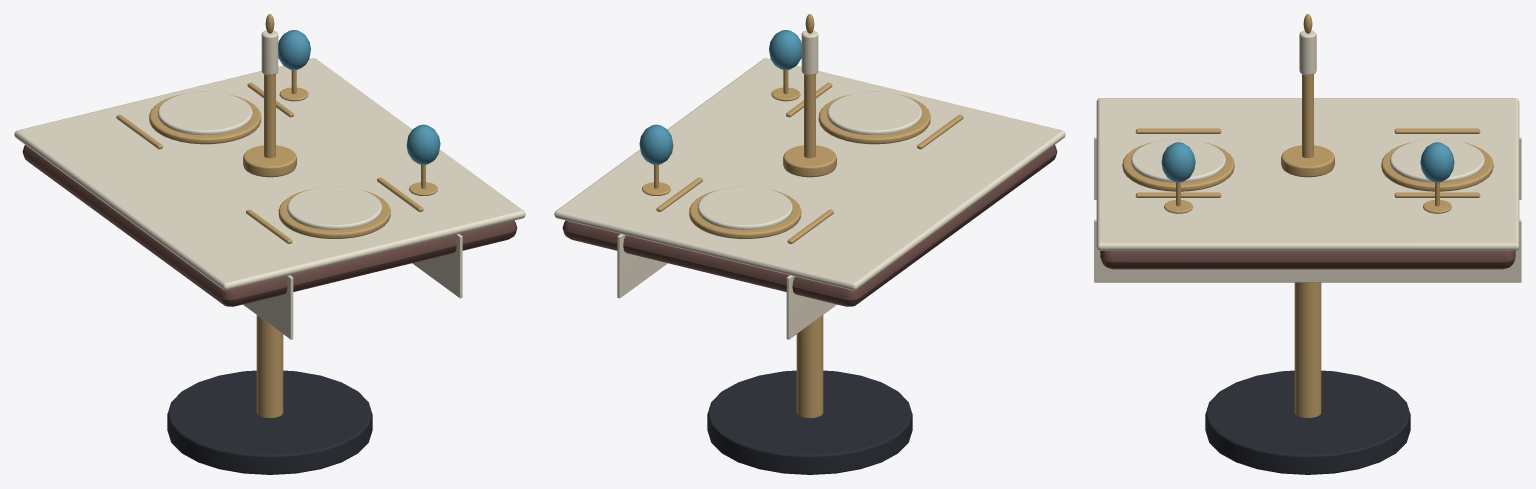
The model's file is dining_table.glb.
3 renders of one model, left to right at view 1: azimuth 30°, elevation 25°; view 2: azimuth 150°, elevation 25°; view 3: azimuth 270°, elevation 25°, orthographic.
Parts seen in each view (by area): view 1: dining_table; view 2: dining_table; view 3: dining_table.
Boxes of the visible parts, <box> form: dining_table: <box>14,14,525,474</box>; dining_table: <box>554,14,1065,474</box>; dining_table: <box>1094,14,1521,474</box>.
Size of the model in its own units: 1.43 by 1.89 by 1.75.
